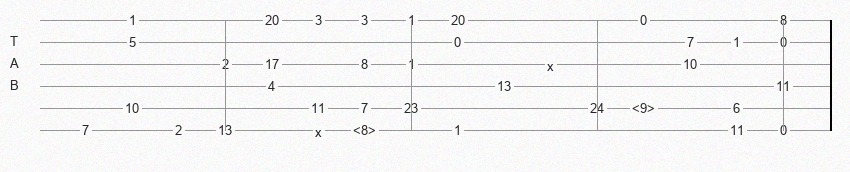0: (454, 35, 465, 49), (640, 13, 651, 27), (780, 35, 791, 49), (780, 123, 791, 137)
1: (129, 13, 140, 27), (408, 13, 419, 27), (408, 57, 419, 71), (454, 123, 465, 137), (733, 35, 744, 49)
10: (125, 101, 143, 115), (683, 57, 701, 71)
11: (311, 101, 329, 115), (730, 123, 748, 137), (776, 79, 794, 93)
13: (218, 123, 236, 137), (497, 79, 515, 93)
17: (265, 57, 283, 71)
2: (175, 123, 186, 137), (222, 57, 233, 71)
20: (265, 13, 283, 27), (451, 13, 469, 27)
23: (404, 101, 422, 115)
24: (590, 101, 608, 115)
3: (315, 13, 326, 27), (361, 13, 372, 27)
4: (268, 79, 279, 93)
5: (129, 35, 140, 49)
6: (733, 101, 744, 115)
7: (82, 123, 93, 137), (361, 101, 372, 115), (687, 35, 698, 49)
8: (361, 57, 372, 71), (780, 13, 791, 27)
harmonic: (353, 123, 380, 137), (632, 101, 659, 115)
x: (315, 125, 326, 136), (547, 59, 558, 70)
